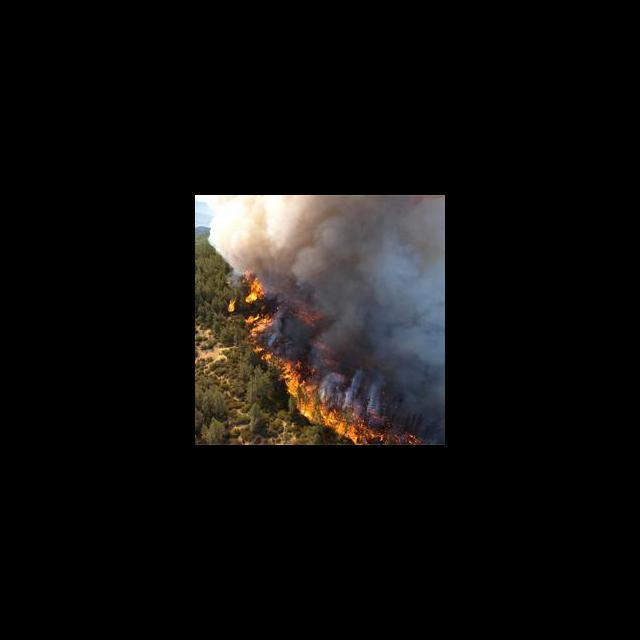Fire: (306, 408, 361, 444), (264, 350, 302, 400), (360, 422, 417, 444), (294, 379, 316, 420), (240, 269, 265, 305), (246, 310, 262, 358), (225, 298, 236, 313)
Smoke: (311, 199, 445, 364), (342, 369, 364, 406), (266, 310, 285, 346), (364, 382, 382, 418), (319, 371, 338, 398)
